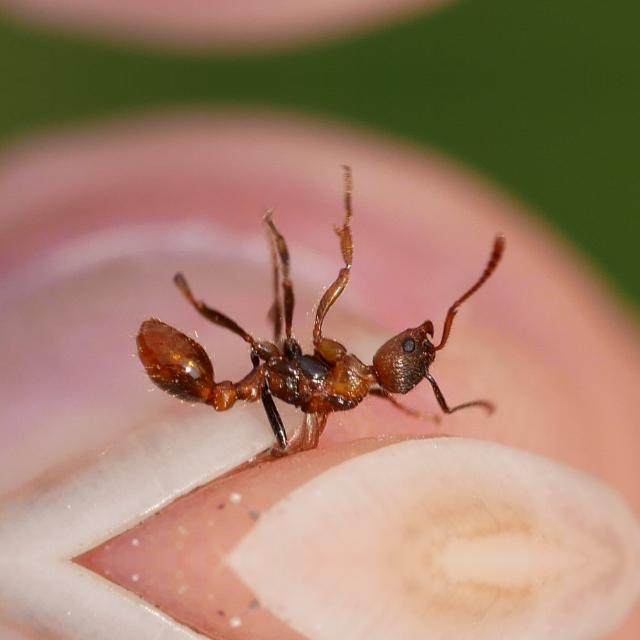Myrmica: (117, 196, 520, 480)
